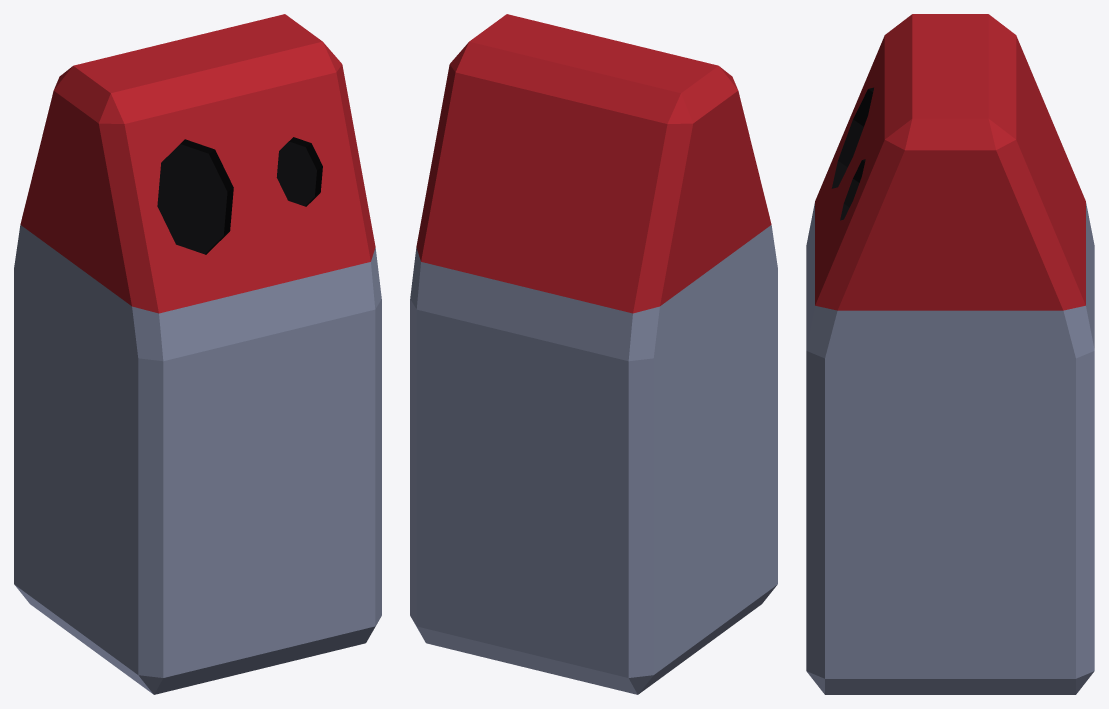
The model's file is RecycleCan_Red.fbx.
The picture shows the model from 3 angles, left to right: view 1: azimuth 30°, elevation 25°; view 2: azimuth 150°, elevation 25°; view 3: azimuth 270°, elevation 25°; orthographic projection.
Parts seen in each view (by area): view 1: RecycleCan_Red; view 2: RecycleCan_Red; view 3: RecycleCan_Red.
Part boxes in pixels (<box>): RecycleCan_Red: <box>14,14,381,694</box>; RecycleCan_Red: <box>410,14,777,694</box>; RecycleCan_Red: <box>806,14,1094,694</box>.
Bounding box in the file's own units: 140 × 313 × 142.
